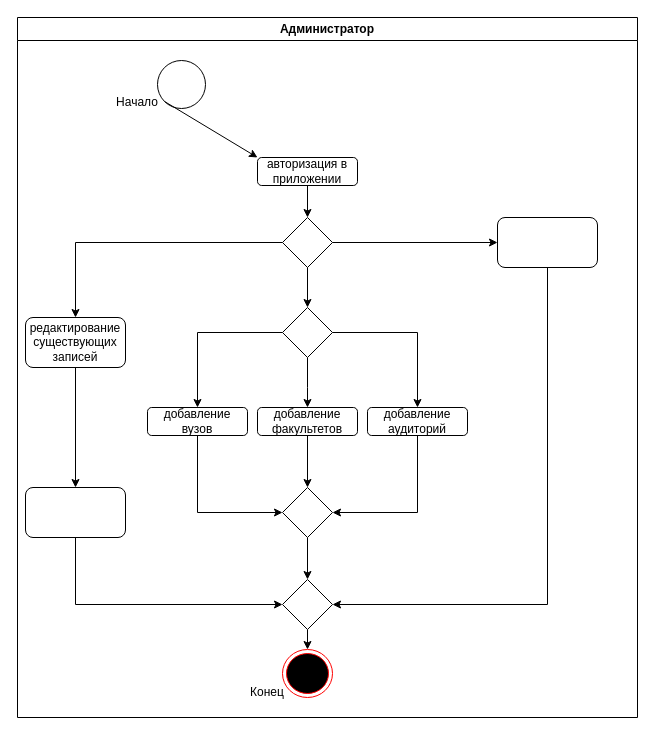
This 655x735 diagram has some shape labels left out. The centre of each missing label's shape, as x and y in pixels:
"добавление новых пользователей" goes at point (547, 242).
"Просмотр существующих записей" goes at point (75, 512).
